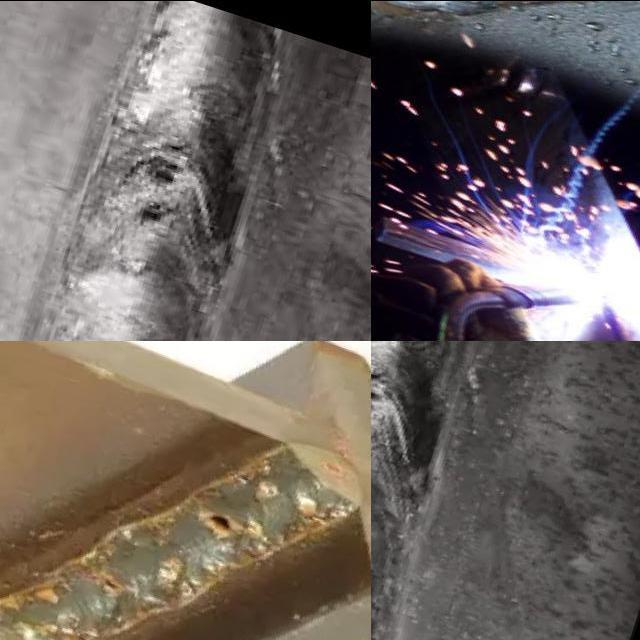defect: (134, 137, 189, 183), (122, 193, 179, 225), (371, 370, 388, 416), (201, 511, 233, 532), (93, 572, 122, 592)
